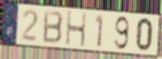0: (135, 18, 154, 53)
1: (95, 14, 104, 49)
2: (21, 9, 39, 43)
9: (113, 15, 130, 51)
B: (42, 9, 65, 45)
H: (65, 10, 87, 48)
